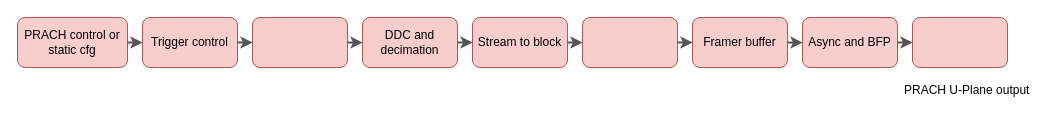
Image size: 1060x118. Some labels were removed from this diagram. Each missing label, with the box of its shape:
1536-point FFT: (582, 16, 678, 68)
Carrier arbiter: (912, 16, 1008, 68)
Sample resync: (252, 16, 348, 68)
